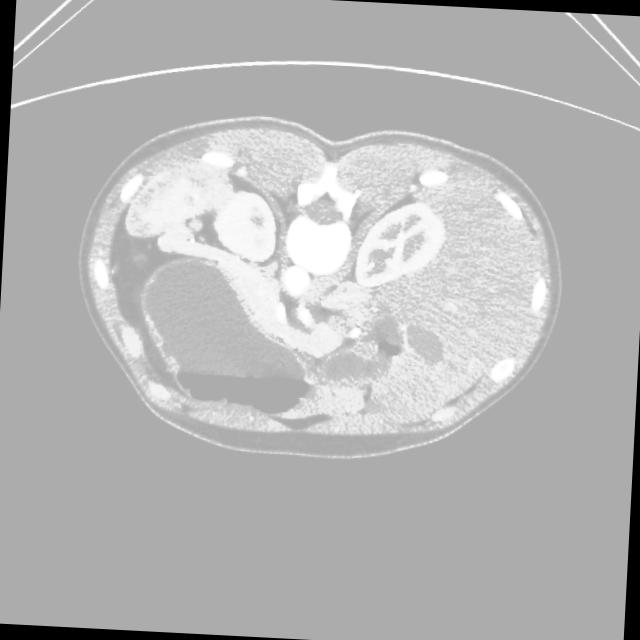NORMAL: (56, 92, 608, 476)
